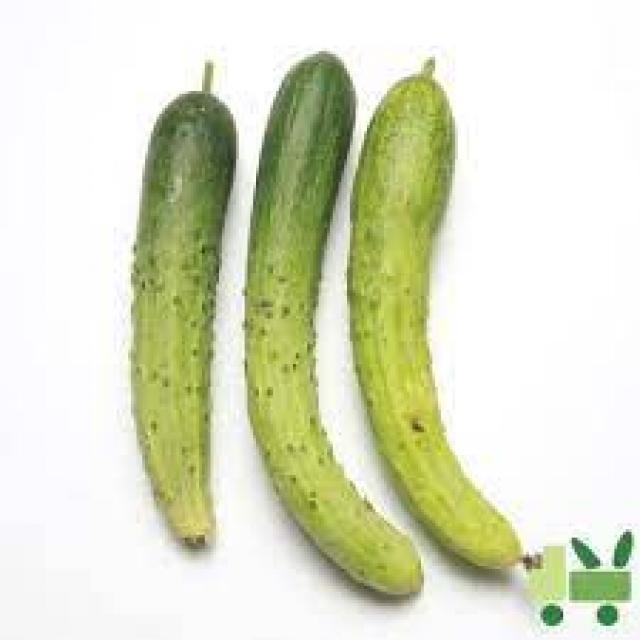Cucumber: (246, 54, 423, 596), (353, 60, 523, 570), (131, 63, 236, 548)
